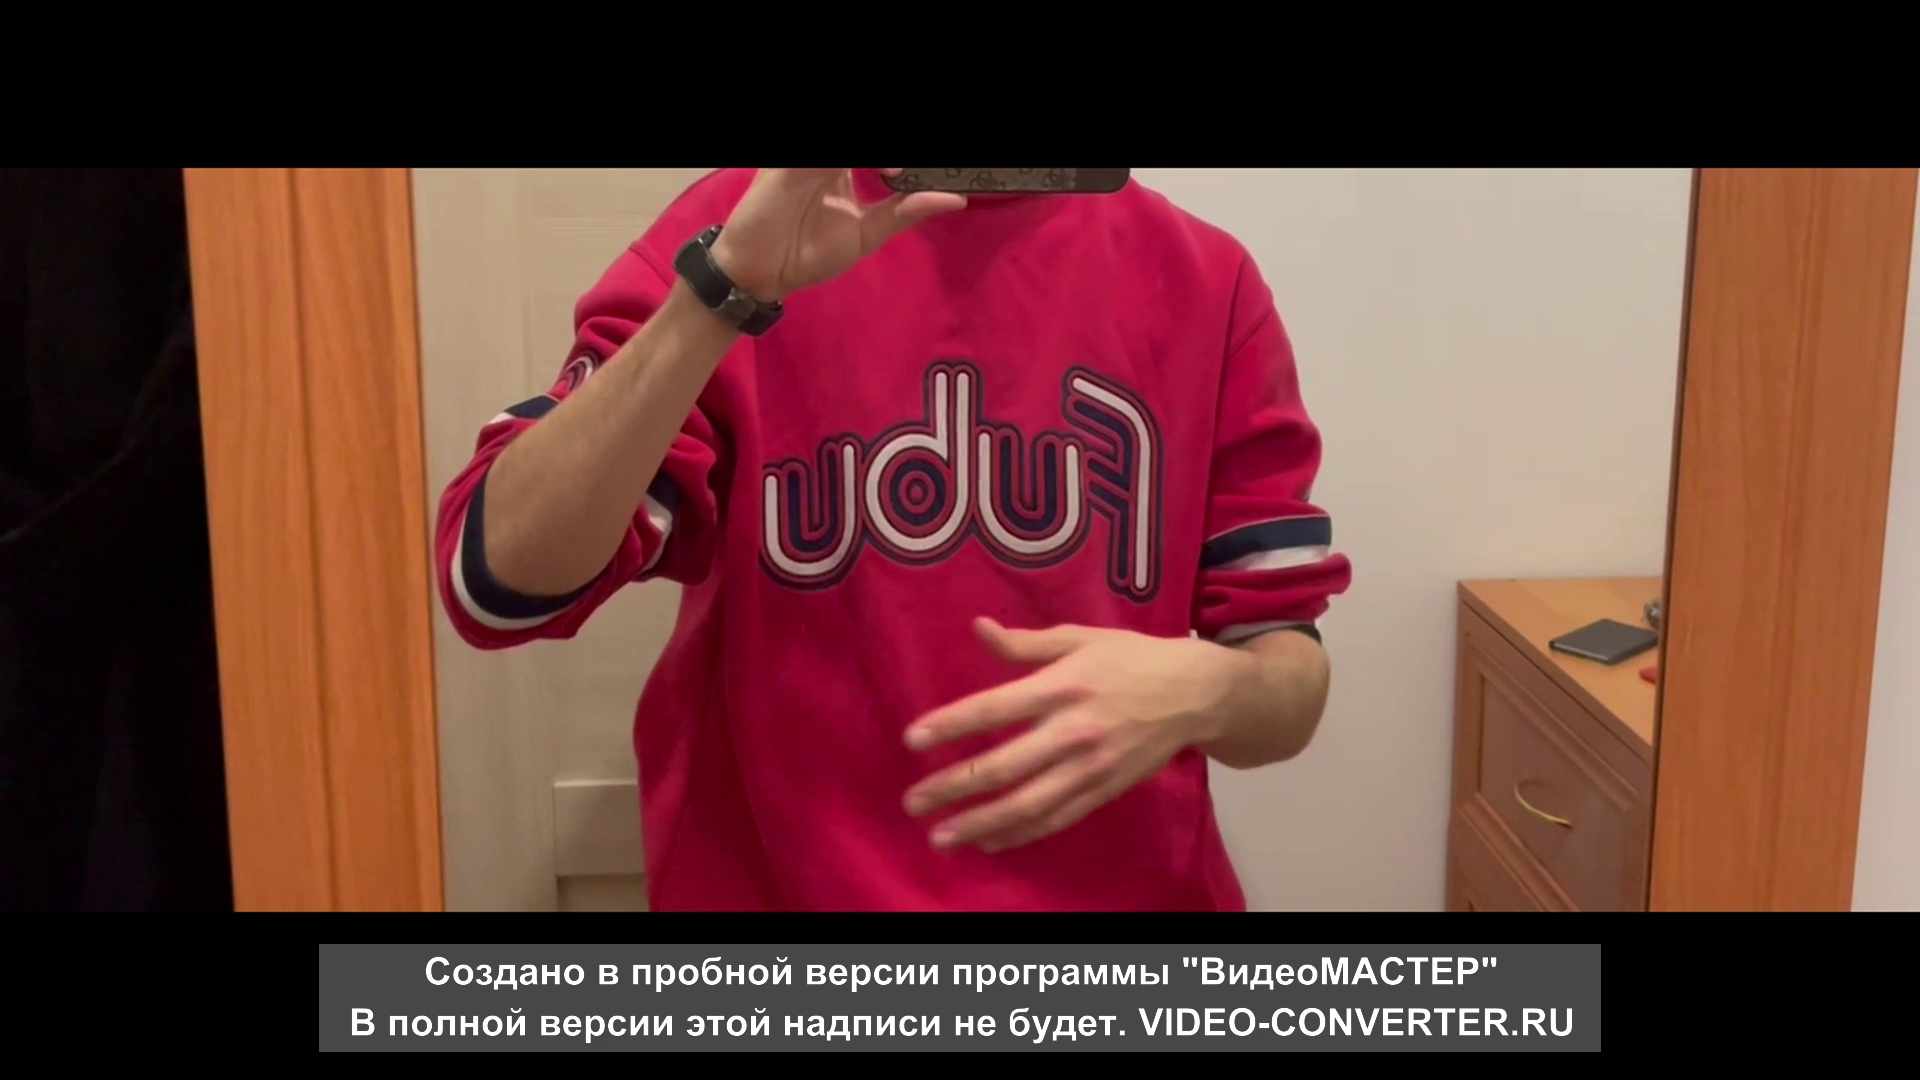Кисть: (901, 612, 1218, 857)
